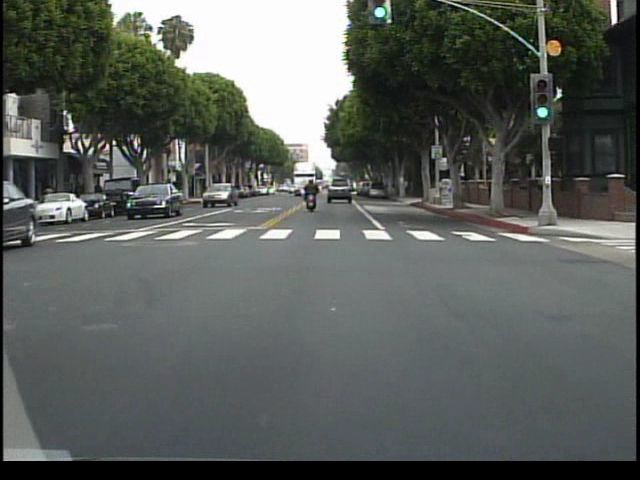person: (301, 176, 321, 215)
